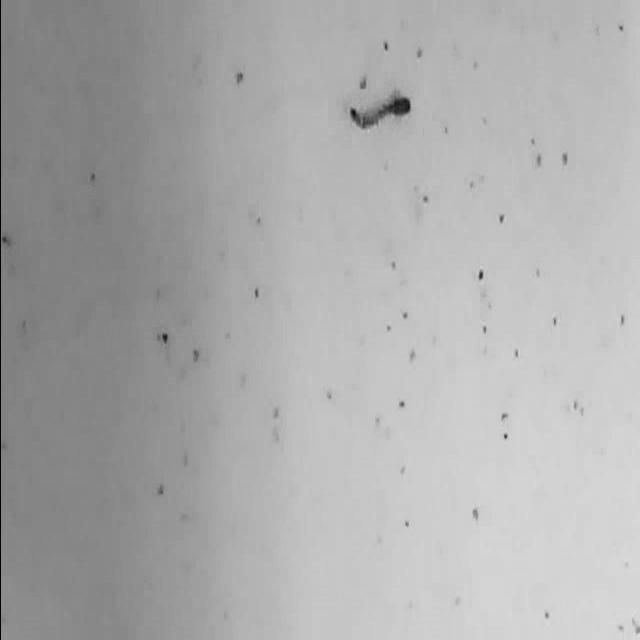larvas: (345, 90, 411, 130)
